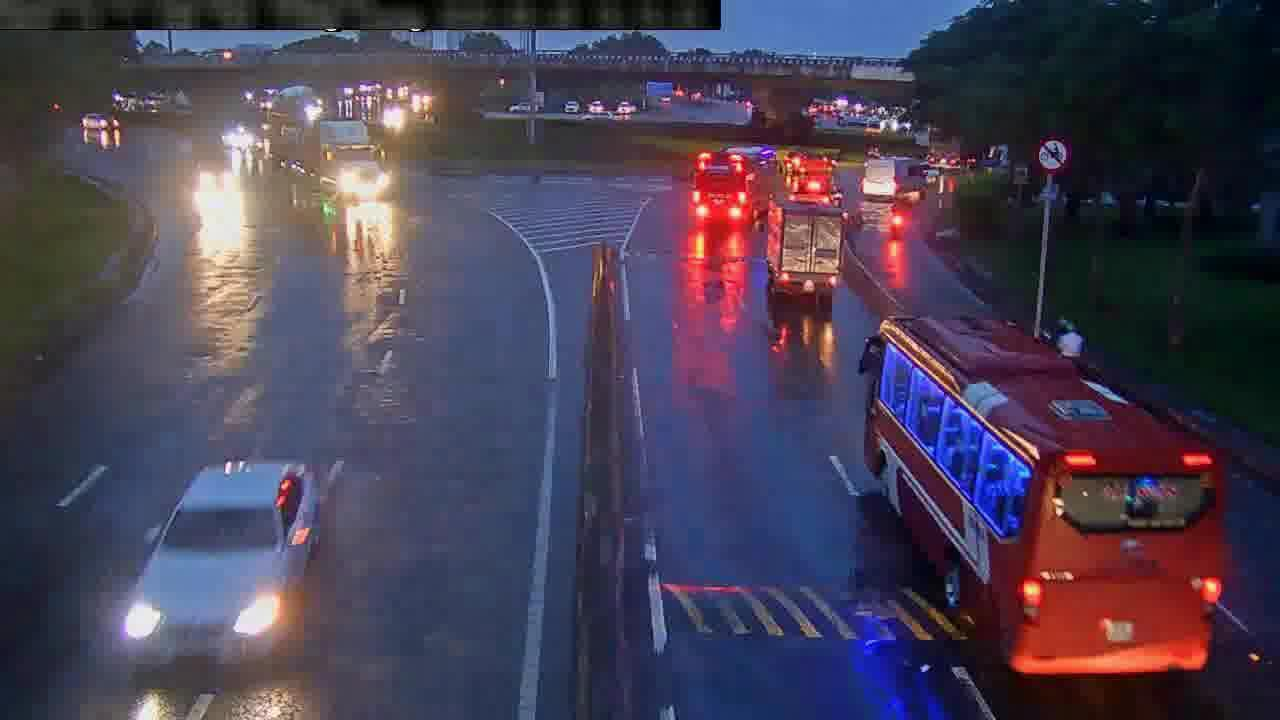14: (855, 315, 1223, 686), (684, 145, 777, 234), (862, 156, 929, 203)
8: (261, 106, 388, 210), (765, 196, 843, 305)
container: (124, 457, 326, 674)
